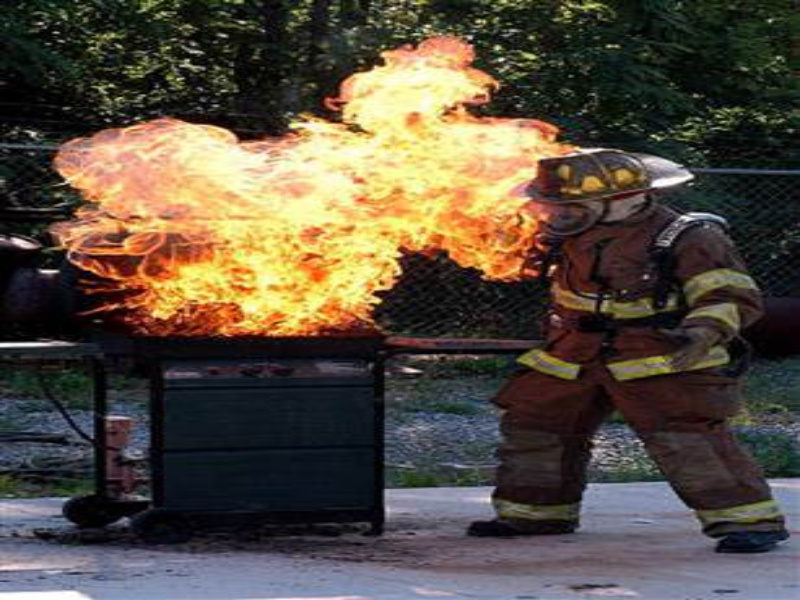fire: (53, 29, 550, 337)
